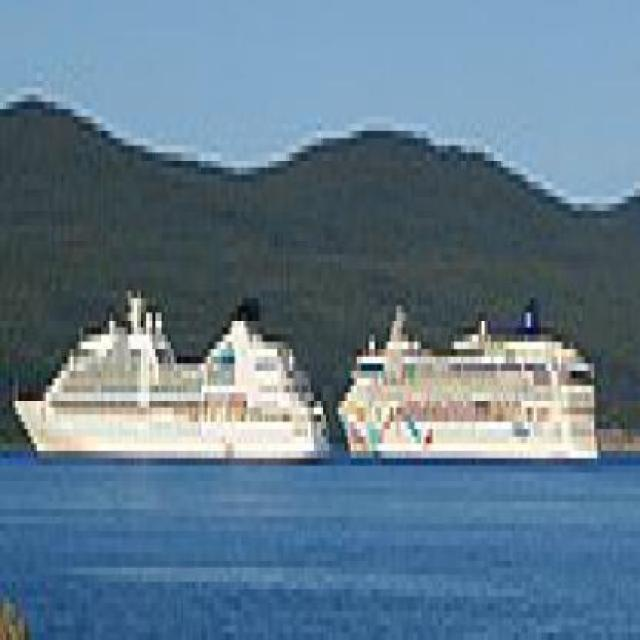cruise: (7, 263, 340, 474), (333, 284, 604, 489)
